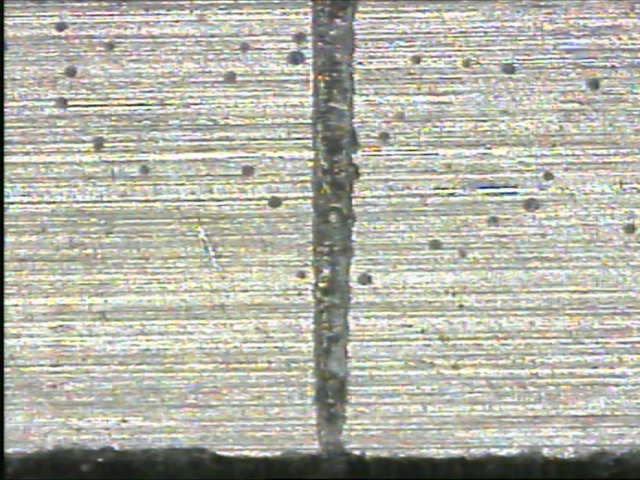line: (309, 1, 361, 455)
